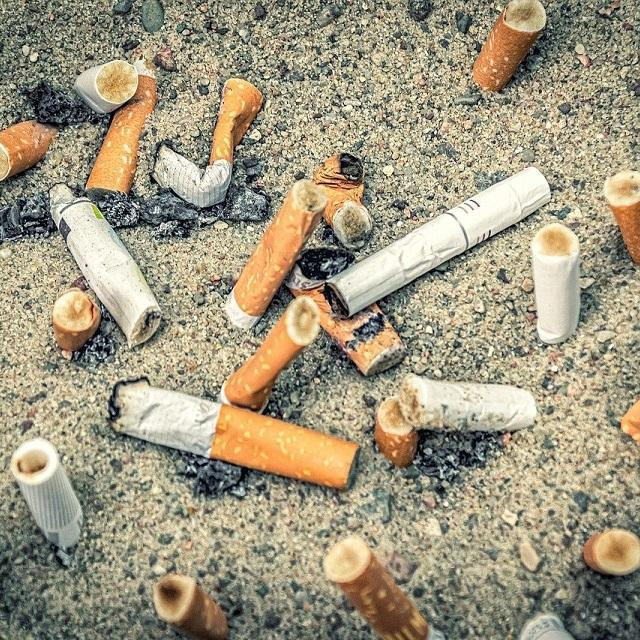Cigarette Butt: (322, 166, 553, 321), (105, 374, 363, 494), (47, 180, 166, 350), (283, 245, 410, 378), (224, 178, 328, 331), (150, 77, 267, 210), (322, 536, 449, 640), (215, 295, 323, 415), (83, 56, 162, 205), (8, 437, 87, 550), (397, 372, 538, 434), (470, 0, 550, 95), (530, 222, 582, 346), (312, 150, 374, 250), (152, 573, 232, 640), (70, 59, 140, 117), (0, 117, 61, 183), (602, 168, 640, 269), (373, 394, 424, 469), (50, 287, 105, 353), (581, 526, 640, 578), (618, 358, 640, 458), (515, 611, 581, 640)
